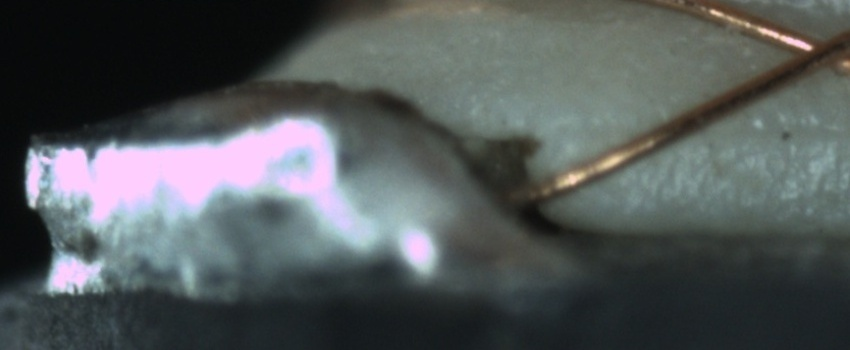CL: (766, 16, 849, 79)
DL: (618, 96, 850, 163)
